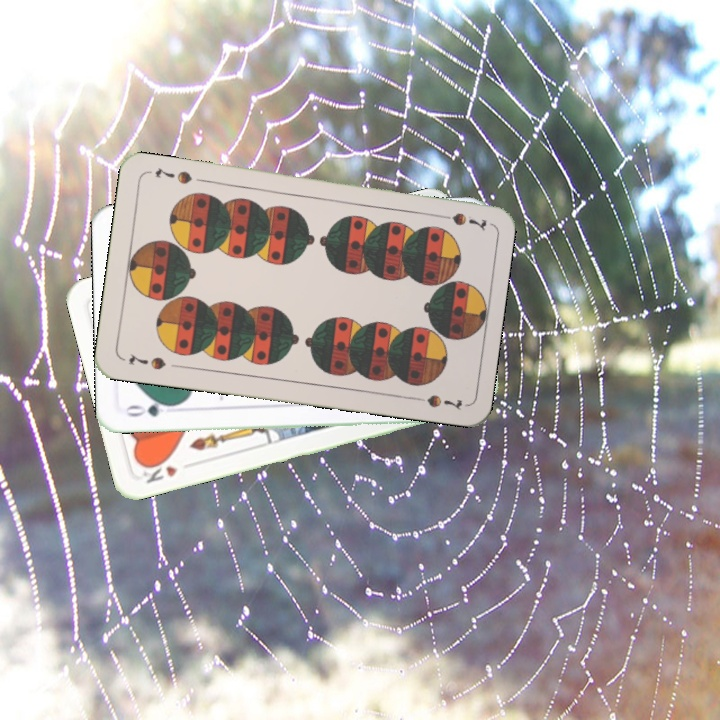GO: (121, 397, 179, 420)
HK: (135, 455, 180, 486)
S7: (431, 208, 489, 233), (125, 350, 168, 373)
